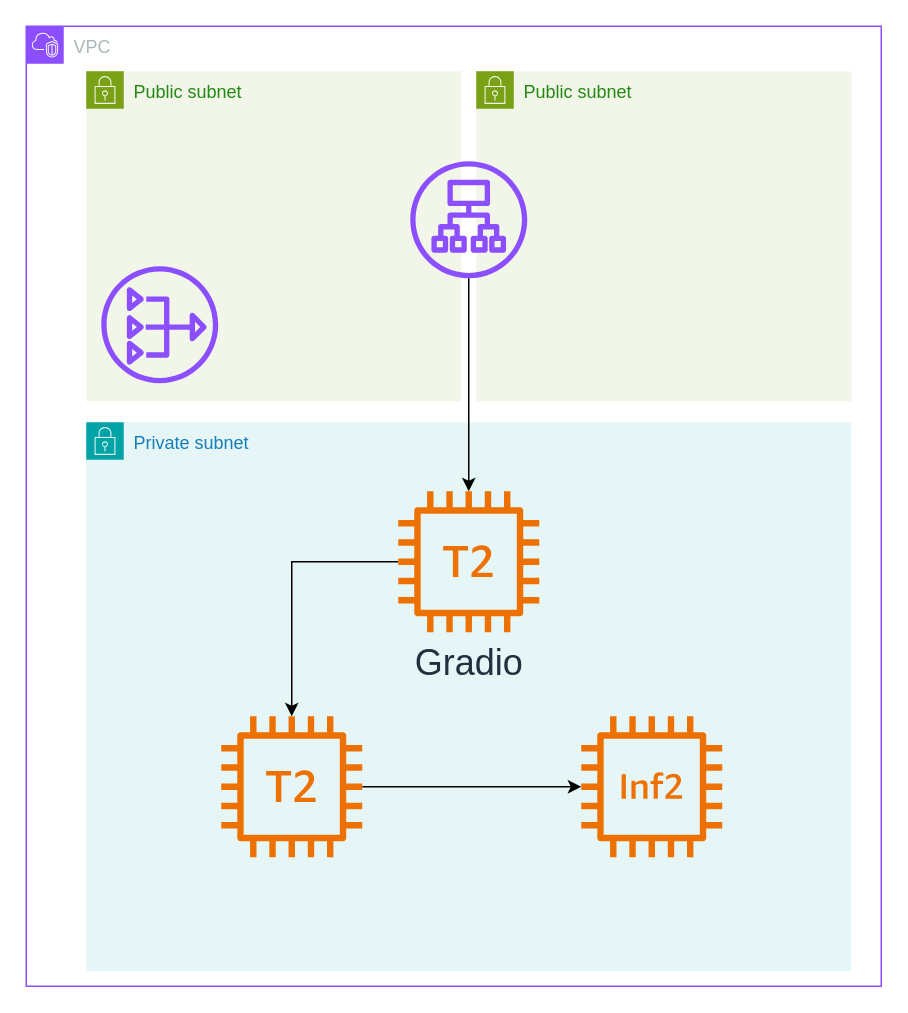
Image size: 908x1013. Some labels were removed from this diagram. The centre of each missing label's shape, as x and y in pixels:
"Controller" belongs at pixel 291 786.
"Model" belongs at pixel 651 786.
